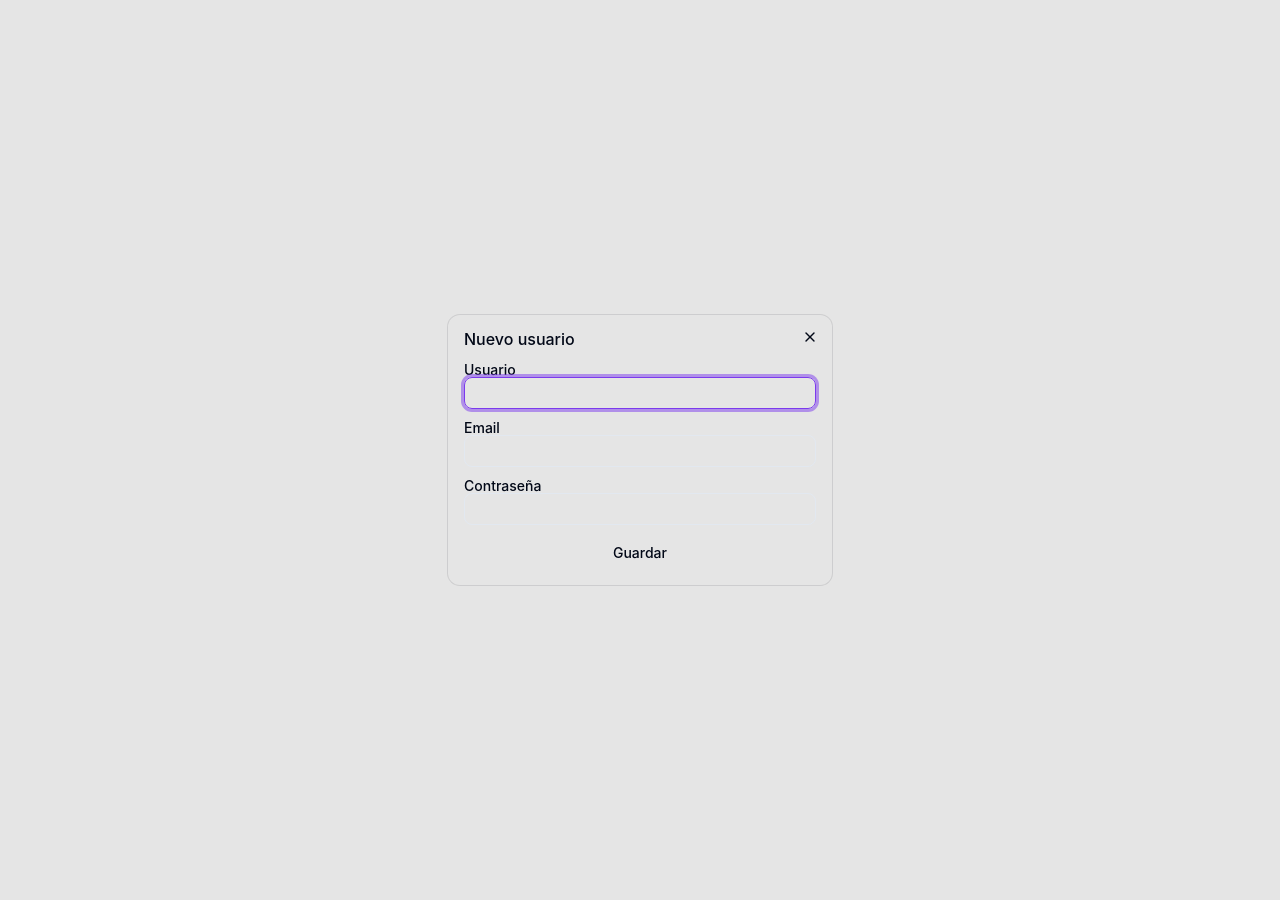
UserFormDialog — creación › should require a password of at least 6 characters
The width and height of the screenshot is (1280, 900).
In the field labelled "Usuario": (640, 393) [464,377,816,409], type "higuera"
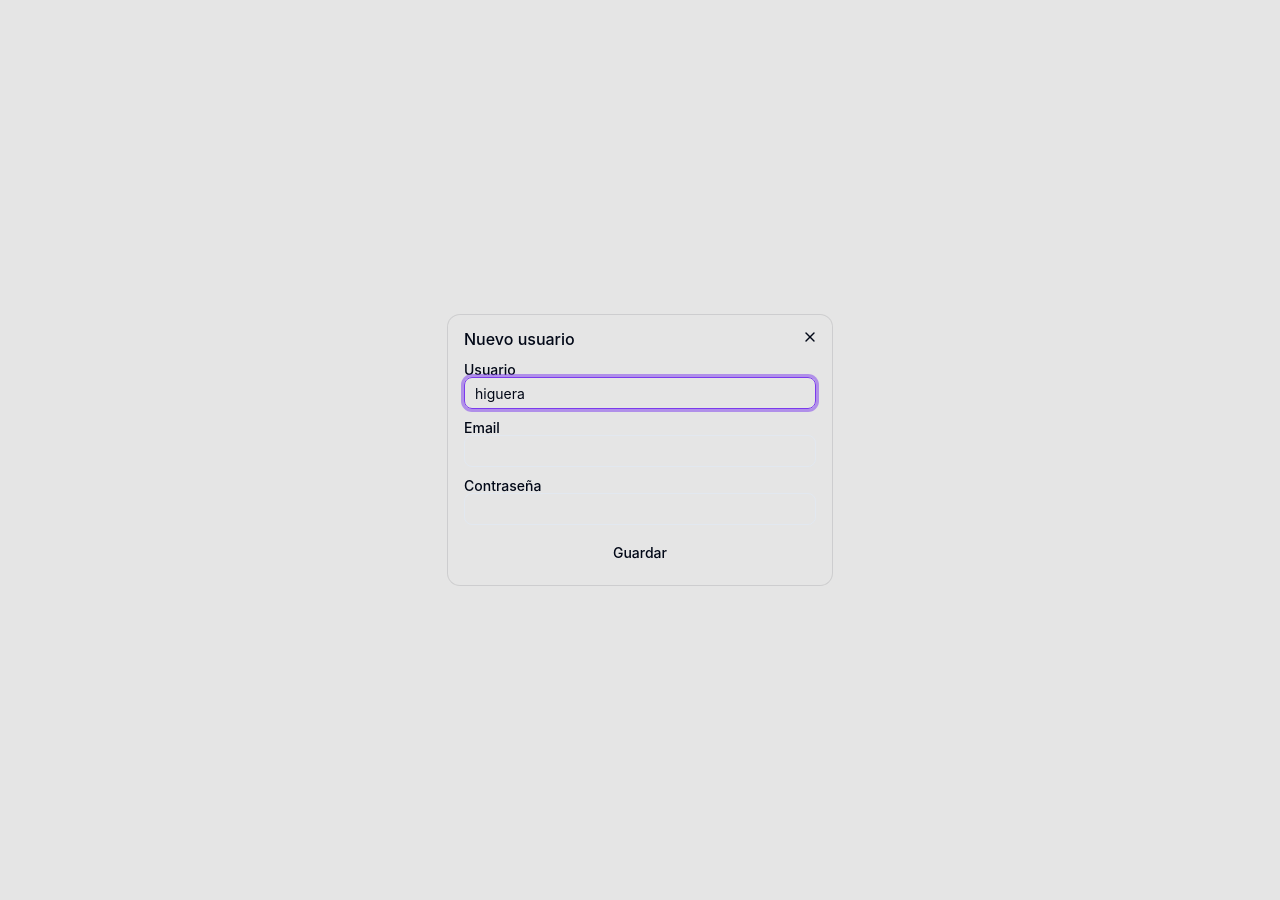
In the field labelled "Email": (640, 451) [464,435,816,467], type "higuera@blogapp.dev"
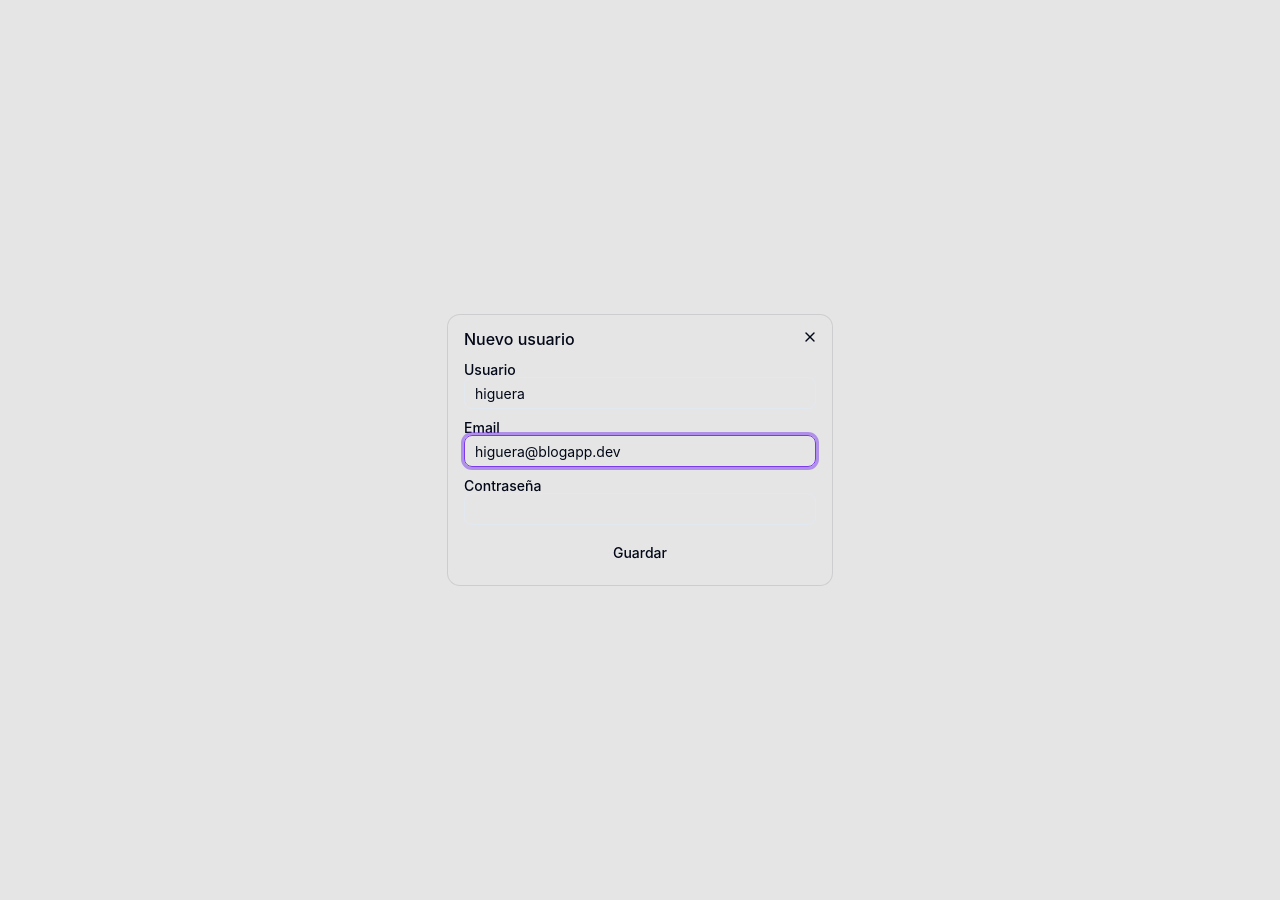
In the password field labelled "Contraseña": (640, 509) [464,493,816,525], type "123"
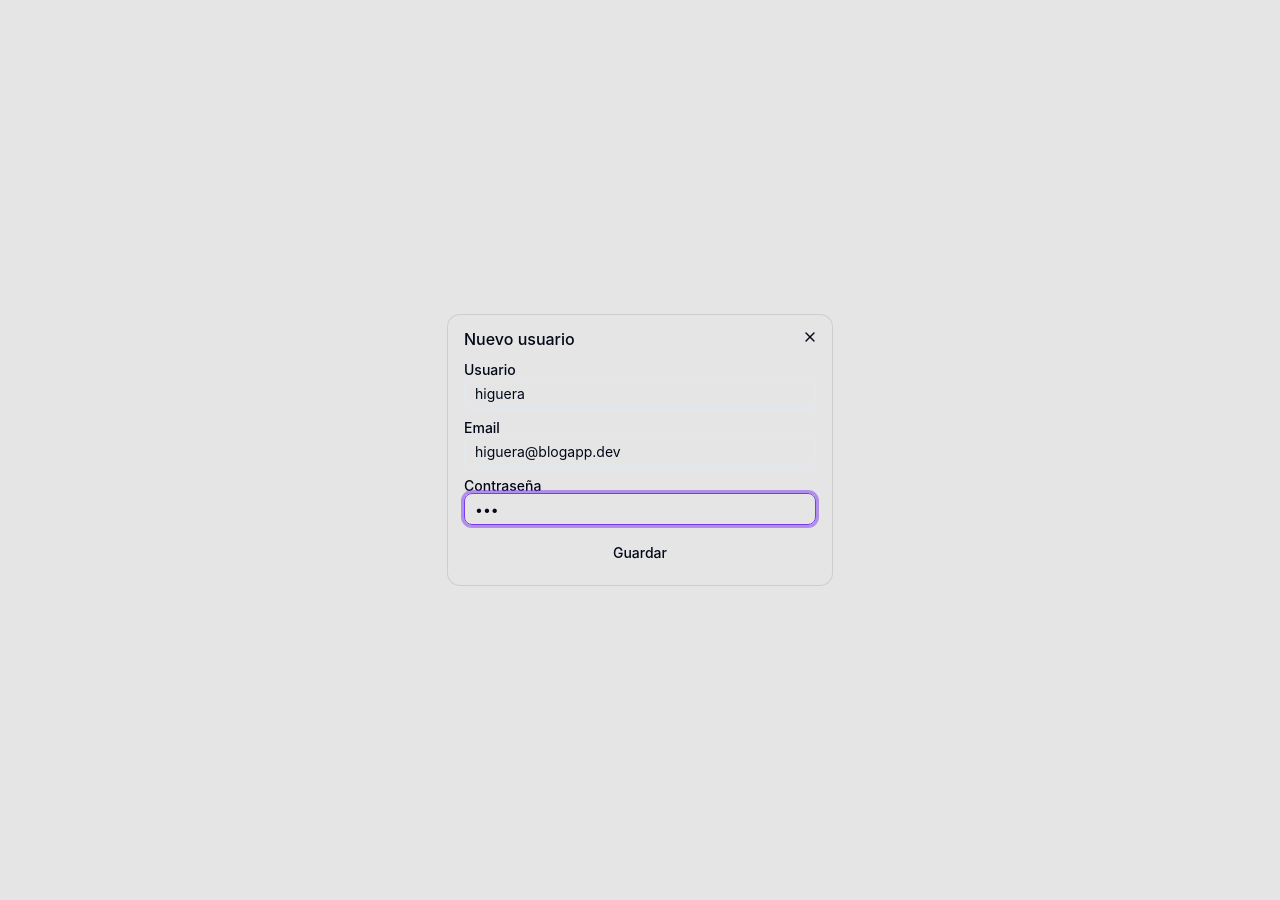
Click the button "Guardar": (640, 553) [464,537,816,569]
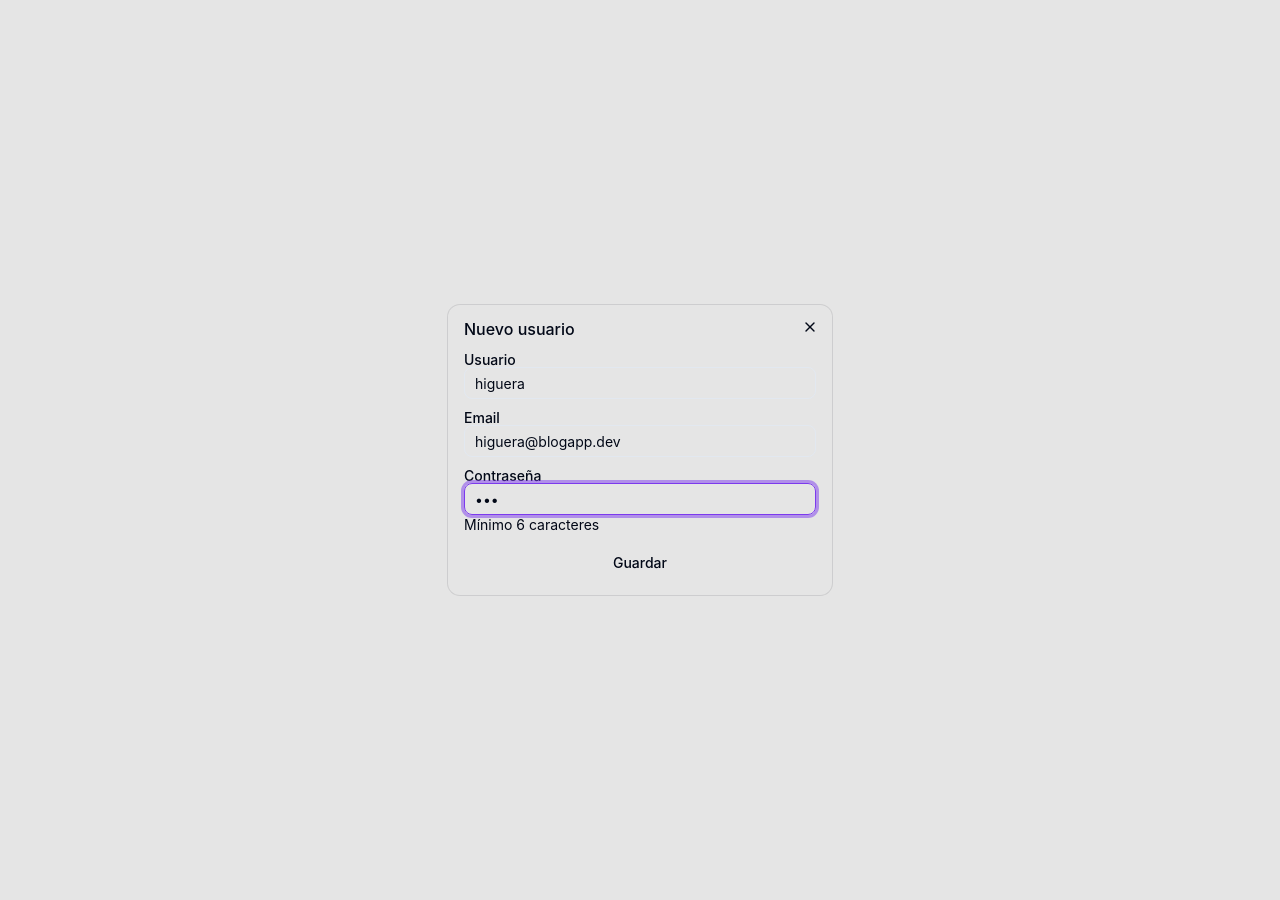
Expected: the text "Mínimo 6 caracteres" is shown, [464,516,599,533]
